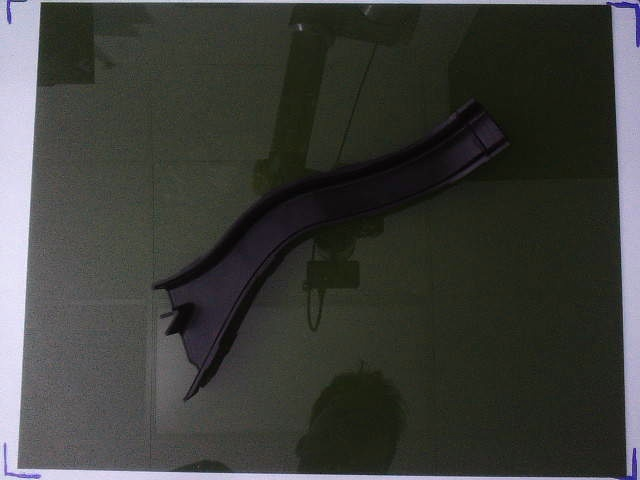887_B-Under: (157, 99, 508, 400)
